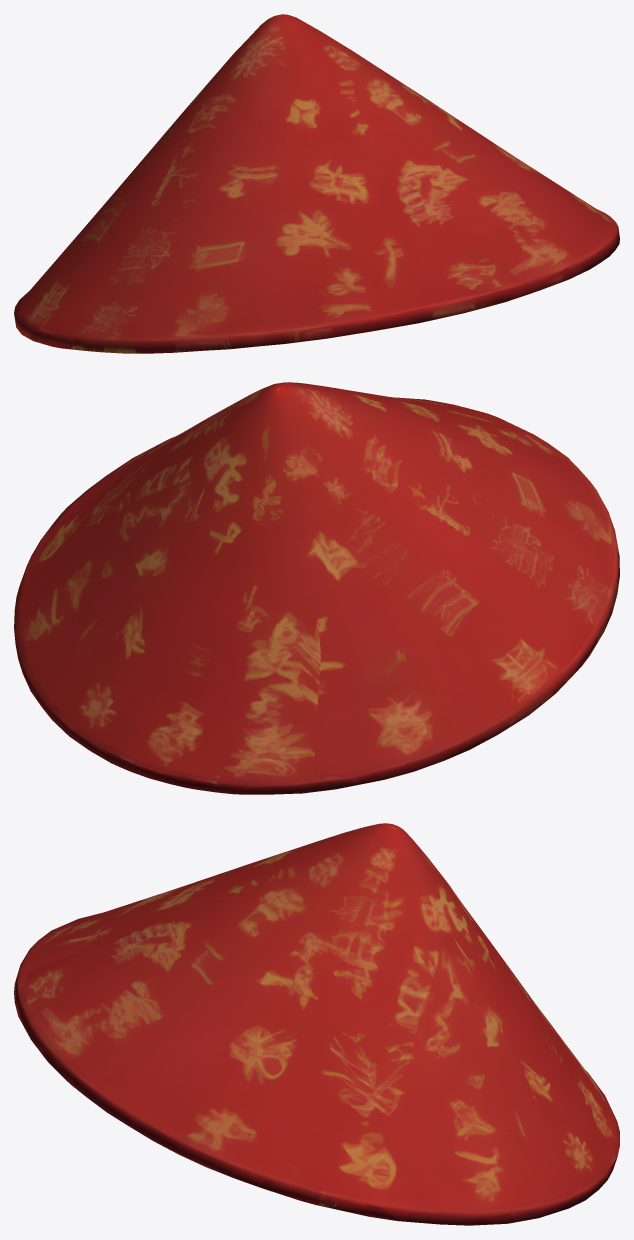
The model's file is Chinese new year hat.fbx.
3 views of the same model, one above another, from view 1: azimuth 30°, elevation 25°; view 2: azimuth 150°, elevation 25°; view 3: azimuth 270°, elevation 25° (orthographic). The views are drawn at different scales.
Visible parts, largest first — view 1: model.012; view 2: model.012; view 3: model.012.
Part boxes in pixels (box(x1,y1,x2,y2)): model.012: box(14, 14, 619, 353); model.012: box(14, 382, 619, 794); model.012: box(14, 823, 619, 1225).
Bounding box in the file's own units: 93.15 × 53.13 × 89.88.
